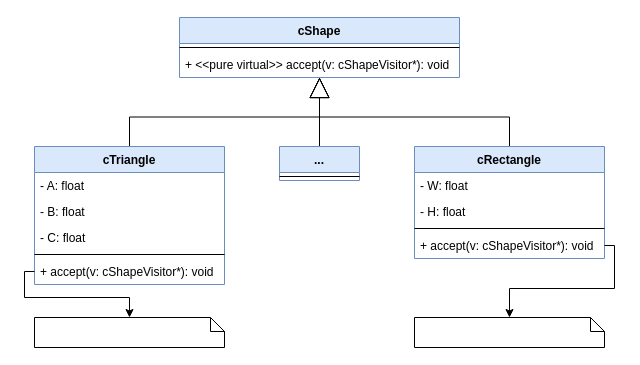
Image size: 640x365. Some labels were removed from this diagram. Here are the shapes that lost their labels. From the top down, the centre of each, then its label:
At (129,332): "v->visit_triangle(this);".
At (509,332): "v->visit_rectangle(this);".
